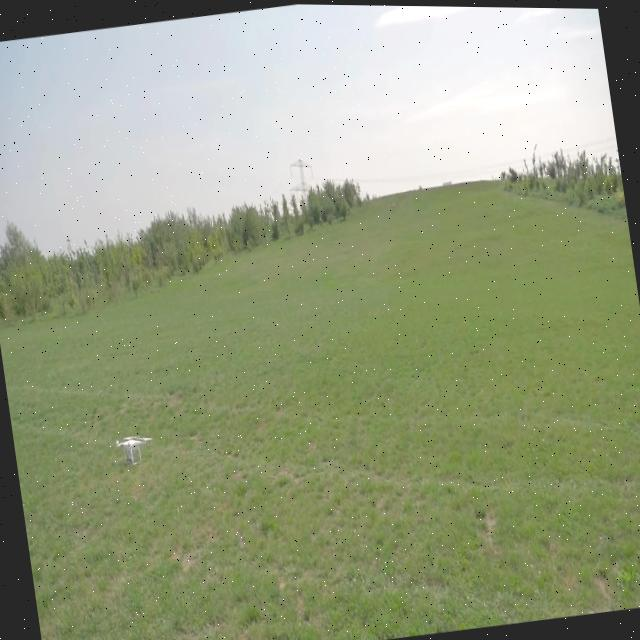drone: (112, 426, 154, 468)
